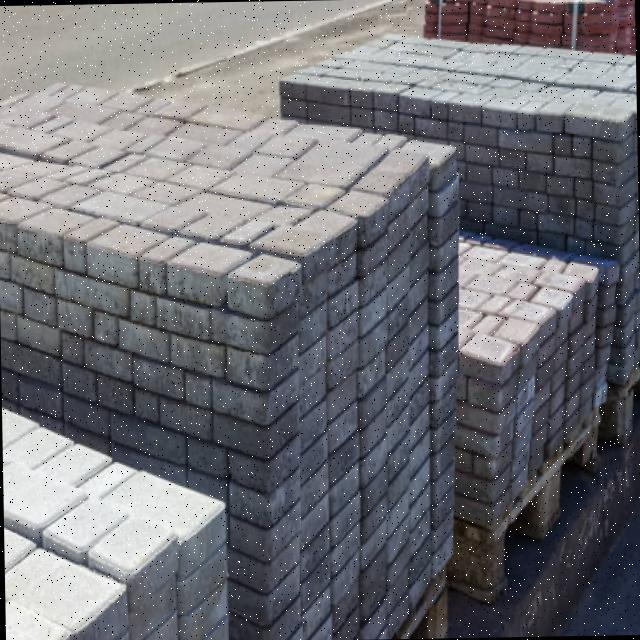Wooden-Pallets: (449, 412, 602, 607)
